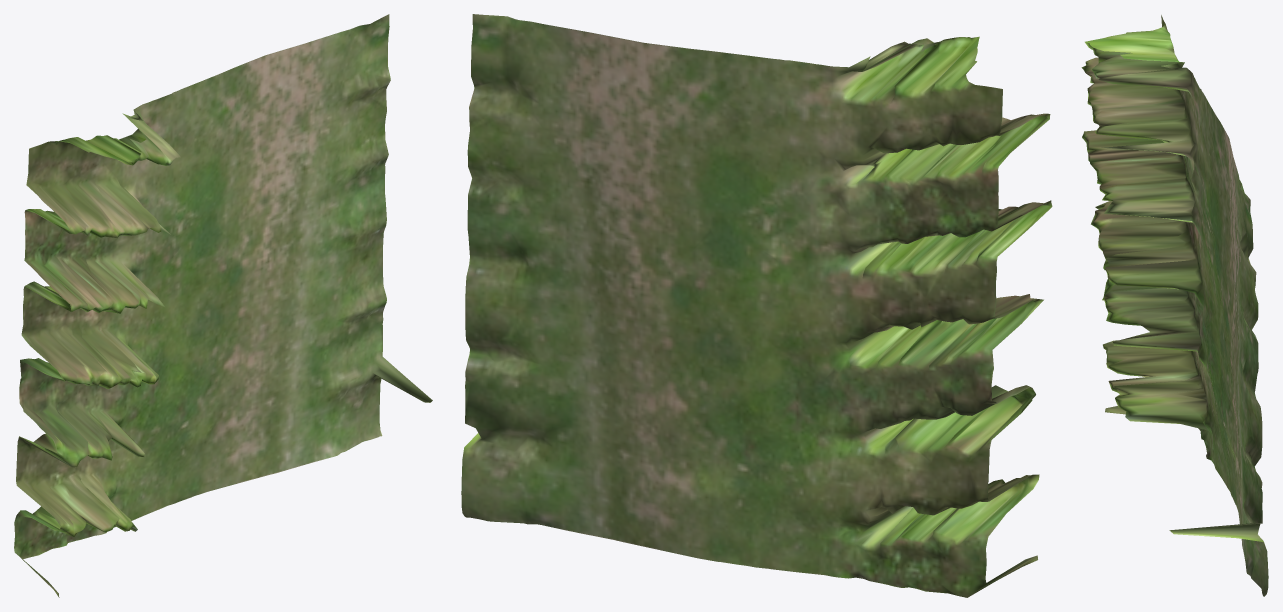
File: map_220_10.obj
3 views of the same model, side by side, from view 1: azimuth 30°, elevation 25°; view 2: azimuth 150°, elevation 25°; view 3: azimuth 270°, elevation 25° (orthographic). The views are drawn at different scales.
Bounding box in the file's own units: 10 × 10 × 4.26.
1 material, 1 textured.
